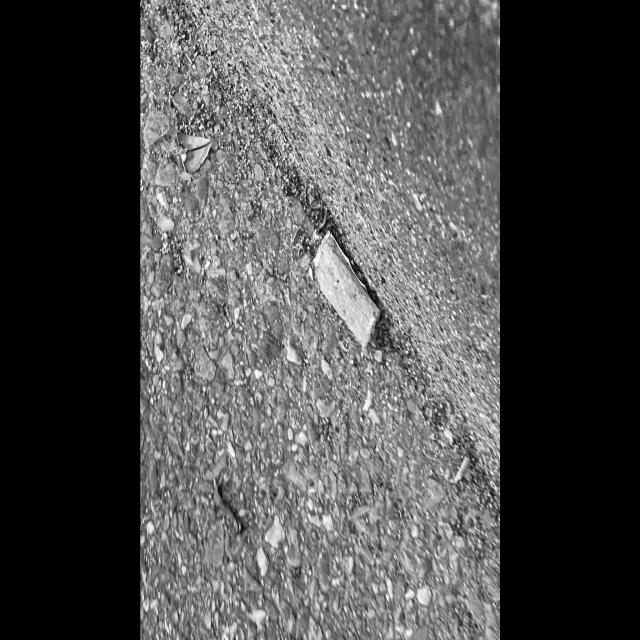other waste: (307, 230, 382, 348)
